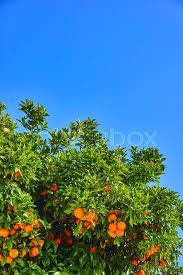orange: (71, 205, 84, 219), (85, 208, 97, 220), (106, 212, 118, 223), (108, 222, 118, 232), (118, 220, 127, 230)
